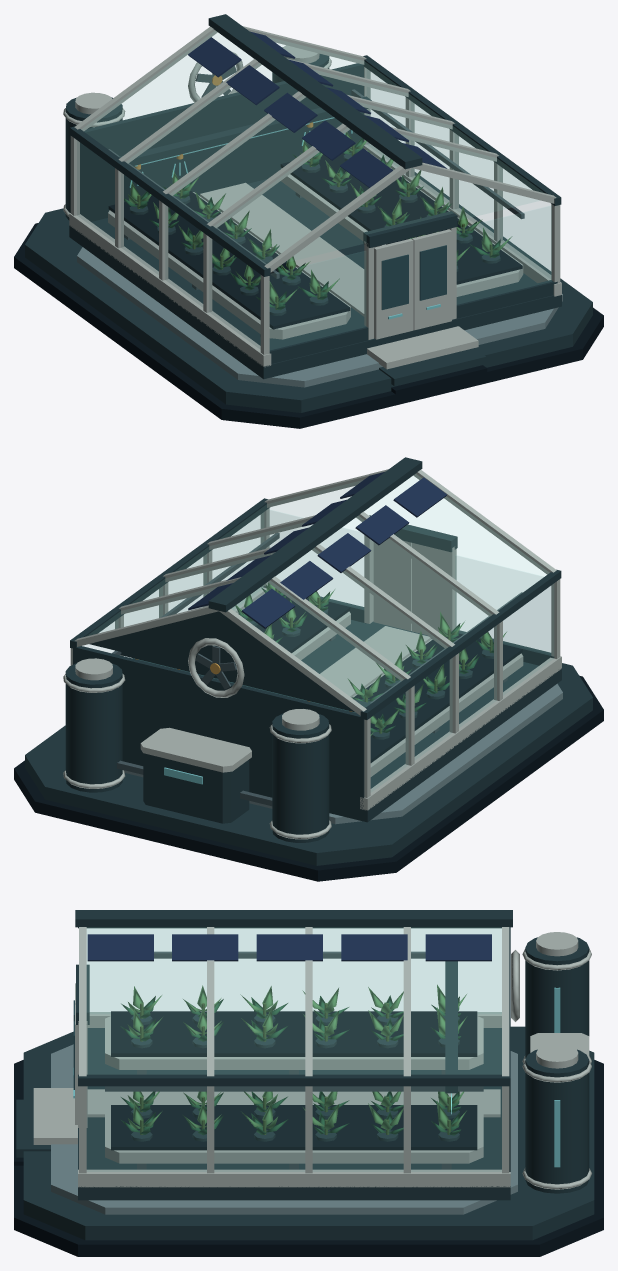
The model's file is ver01_greenhouse_d0_lod1.glb.
The picture shows the model from 3 angles, top to bottom: view 1: azimuth 30°, elevation 25°; view 2: azimuth 150°, elevation 25°; view 3: azimuth 270°, elevation 25°; orthographic projection. The views are drawn at different scales.
Visible parts, largest first — view 1: GREENHOUSE_FRAME, GLAZING, CULTIVATION_INTERIOR, CROP_CANOPY, DOOR_L_PANEL, DOOR_R_PANEL, SERVICE_BRIDGE; view 2: GREENHOUSE_FRAME, GLAZING, CULTIVATION_INTERIOR, CROP_CANOPY, DOOR_R_PANEL, DOOR_L_PANEL, SERVICE_BRIDGE, FAN_ROTOR; view 3: GREENHOUSE_FRAME, GLAZING, CULTIVATION_INTERIOR, CROP_CANOPY, SERVICE_BRIDGE, DOOR_R_PANEL.
Part boxes in pixels (box(x1,y1,x2,y2)): GREENHOUSE_FRAME: box(14, 14, 603, 428); GLAZING: box(77, 31, 551, 349); CULTIVATION_INTERIOR: box(69, 89, 561, 379); CROP_CANOPY: box(124, 132, 512, 310); DOOR_L_PANEL: box(374, 238, 413, 339); DOOR_R_PANEL: box(411, 229, 451, 330); SERVICE_BRIDGE: box(119, 96, 371, 169); GREENHOUSE_FRAME: box(14, 457, 603, 881); GLAZING: box(85, 474, 553, 791); CULTIVATION_INTERIOR: box(112, 533, 561, 822); CROP_CANOPY: box(235, 583, 506, 735); DOOR_R_PANEL: box(373, 540, 411, 631); DOOR_L_PANEL: box(412, 543, 446, 634); SERVICE_BRIDGE: box(120, 652, 370, 712); FAN_ROTOR: box(195, 646, 236, 689); GREENHOUSE_FRAME: box(14, 910, 603, 1256); GLAZING: box(87, 928, 501, 1171); CULTIVATION_INTERIOR: box(78, 951, 510, 1200); CROP_CANOPY: box(120, 984, 467, 1135); SERVICE_BRIDGE: box(445, 961, 457, 1093); DOOR_R_PANEL: box(73, 1004, 77, 1124).
Bounding box in the file's own units: 10 × 5.35 × 12.
